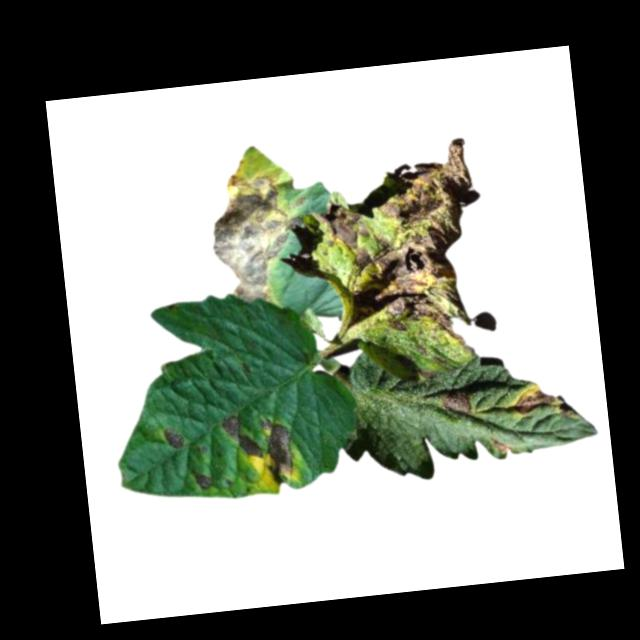Early_blight: (323, 138, 485, 344), (210, 167, 298, 307), (218, 409, 296, 489), (507, 383, 557, 415), (438, 391, 472, 420), (161, 427, 186, 453), (490, 433, 511, 456), (189, 472, 210, 491), (416, 366, 439, 383)
